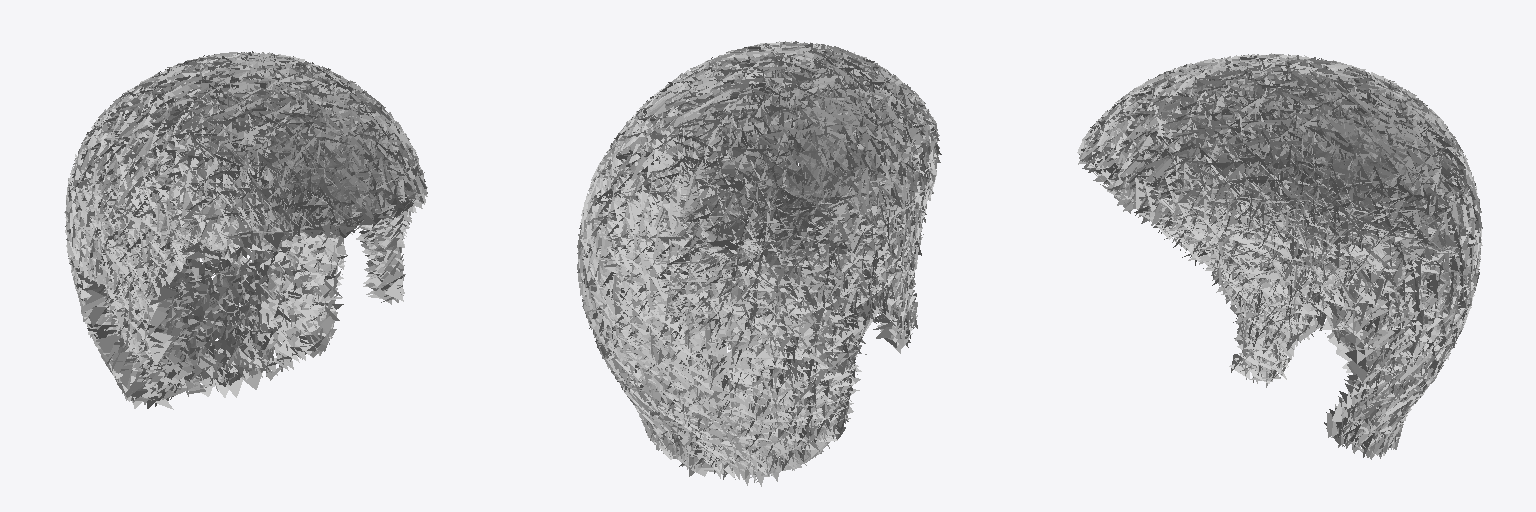
3 renders of one model, left to right at view 1: azimuth 30°, elevation 25°; view 2: azimuth 150°, elevation 25°; view 3: azimuth 270°, elevation 25°, orthographic.
Parts seen in each view (by area): view 1: T2; view 2: T2; view 3: T2.
Part boxes in pixels (x1,y1,x2,y2): T2: (64, 51, 427, 409); T2: (577, 41, 941, 486); T2: (1077, 53, 1482, 459).
Bounding box in the file's own units: 0.082 × 0.1014 × 0.1013.